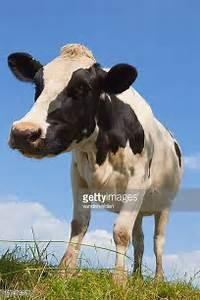cow: (6, 42, 183, 288)
